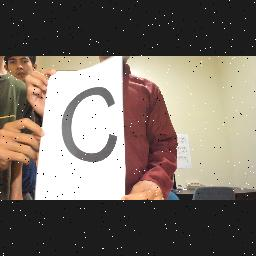c: (55, 82, 125, 166)
